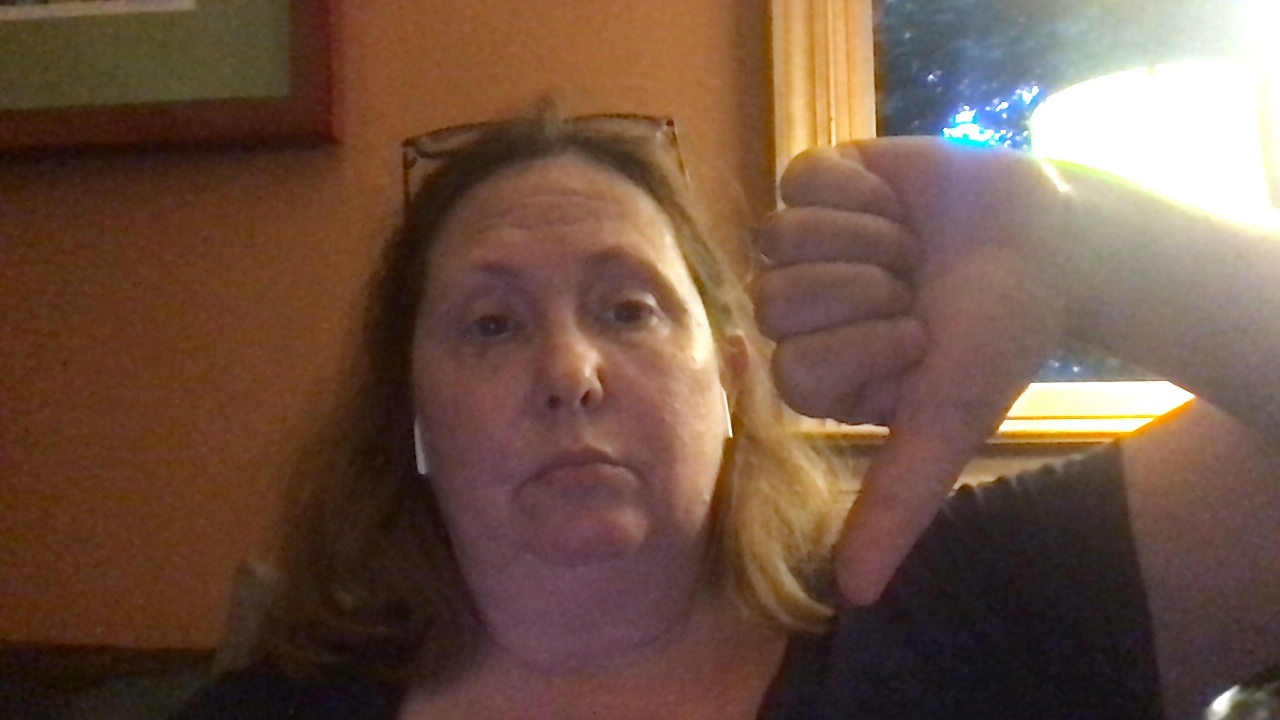thumbsdown: (752, 136, 1079, 609)
